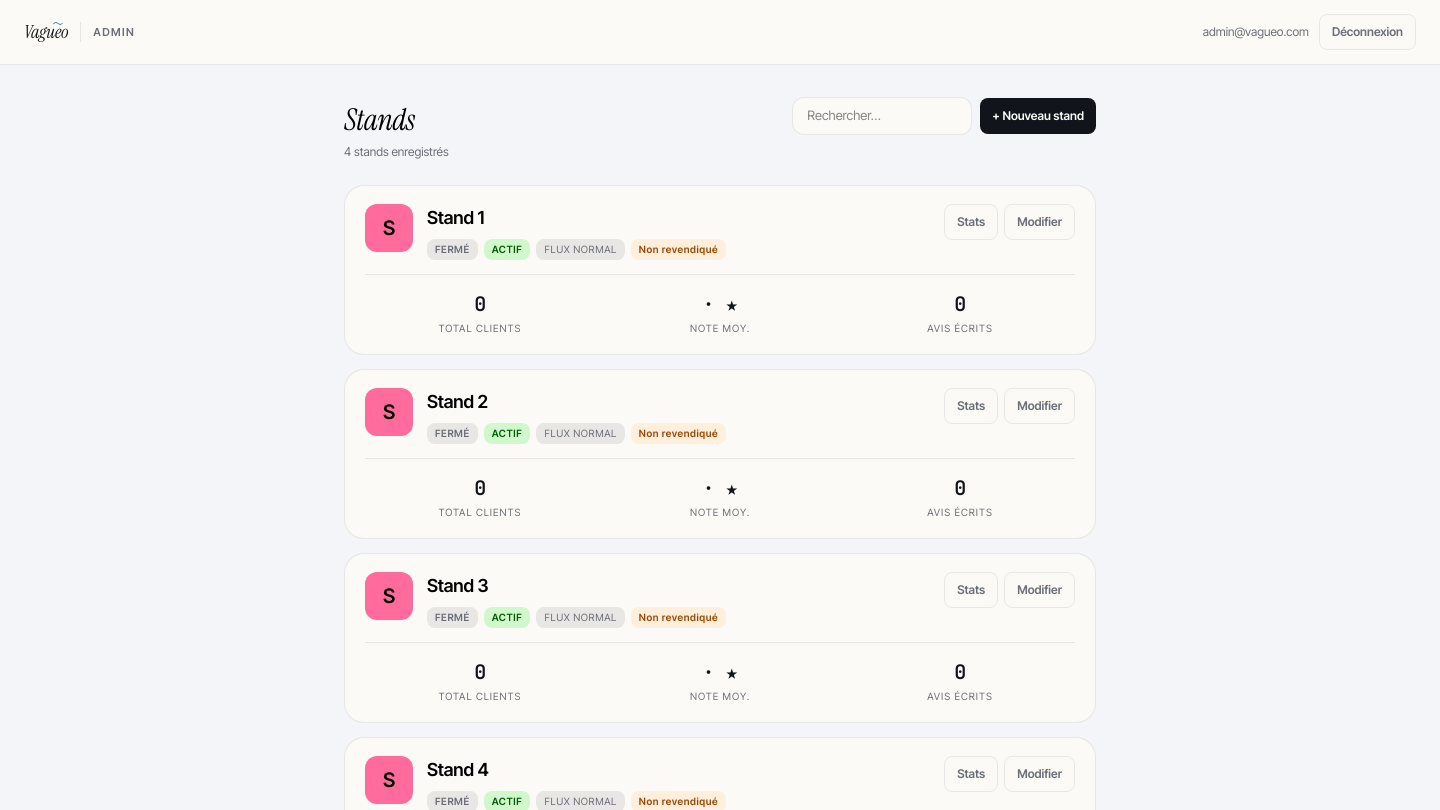
Test: AdminApp › filters stands by search query
In the field with placeholder "Rechercher…": (882, 116) 792,97 -> 972,134, type "Stand 2"
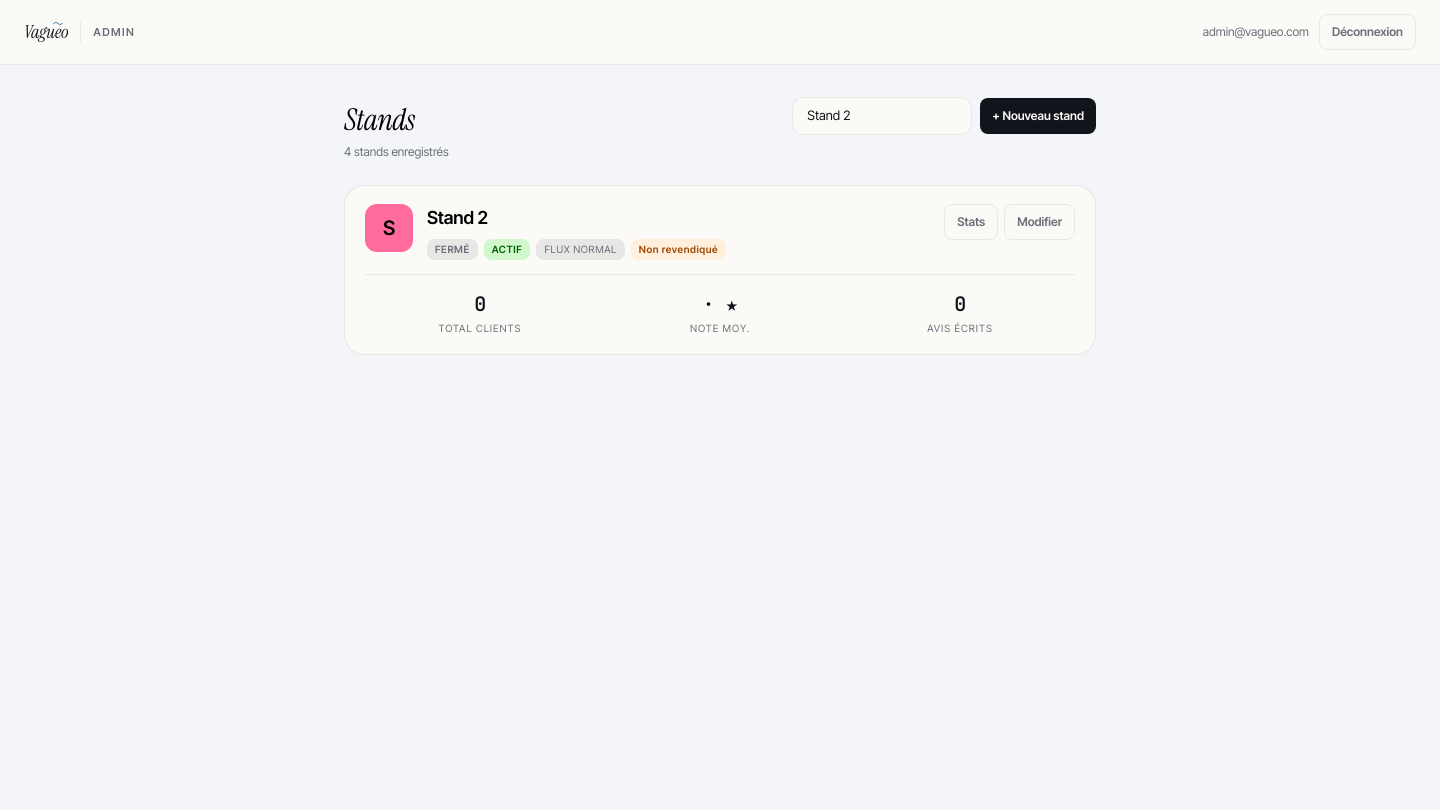
Expected: the text "Stand 2" is shown, 427,207 -> 488,228
Now the text "Stand 1" is gone
